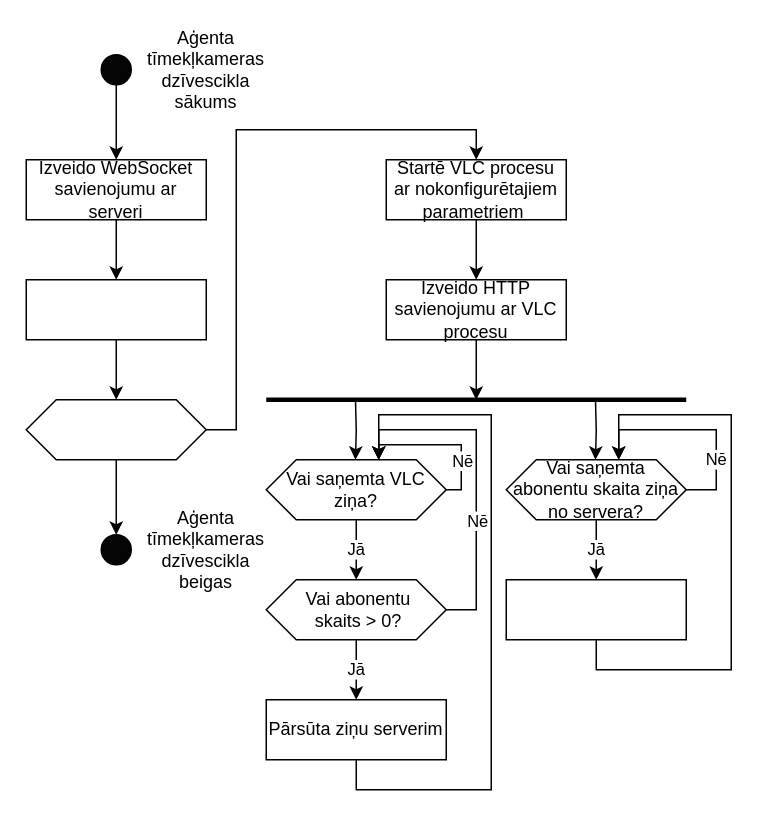
Some shapes in this 770 by 828 pixel diagram are drawn without their labels. Each missing label, with the centre of its shape:
"Atcerās abonentu skaitu" belongs at (595,609).
"Nosūta autentifikācijas ziņu" belongs at (115,309).
"Vai autentifikācija izdevās?" belongs at (115,429).
